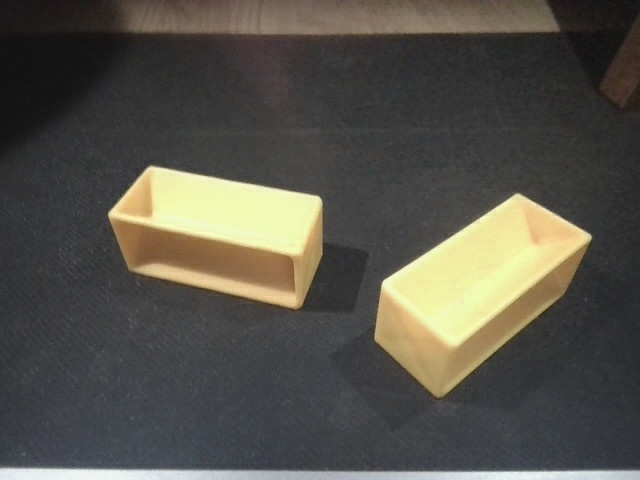YellowSample: (370, 190, 595, 403), (104, 161, 328, 317)
